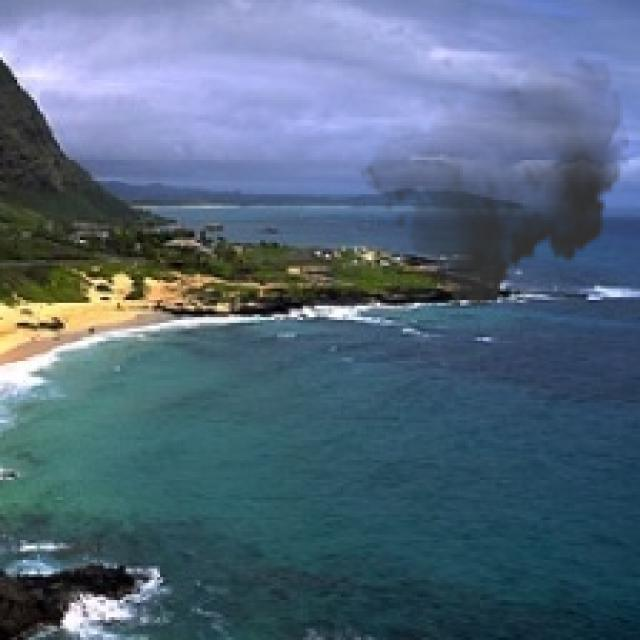Smoke: (357, 42, 629, 318)
